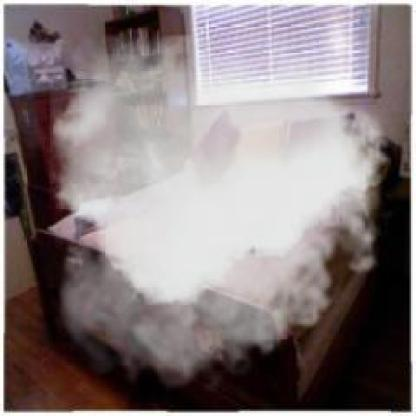Smoke: (50, 35, 402, 400)
